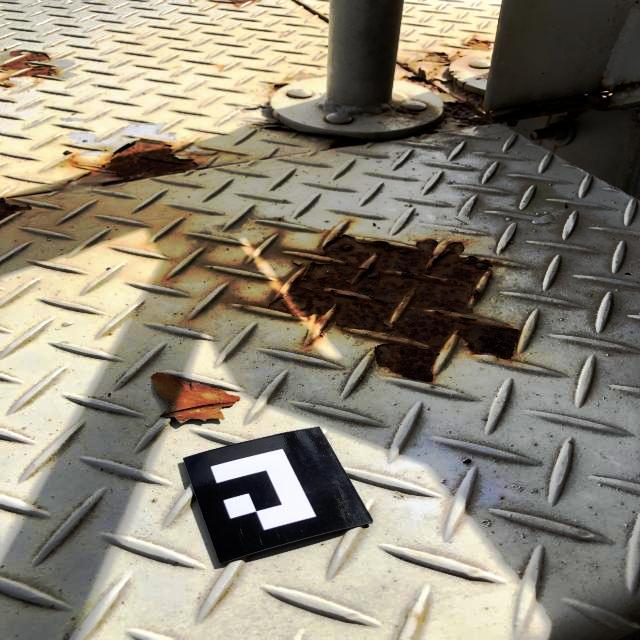Corrosion: (270, 235, 521, 381), (397, 60, 640, 127), (103, 139, 197, 181), (0, 50, 57, 83), (0, 196, 33, 221), (422, 51, 461, 64), (329, 138, 370, 148), (252, 121, 291, 131), (466, 37, 492, 50), (224, 0, 256, 8), (397, 107, 421, 115), (273, 83, 289, 91)
